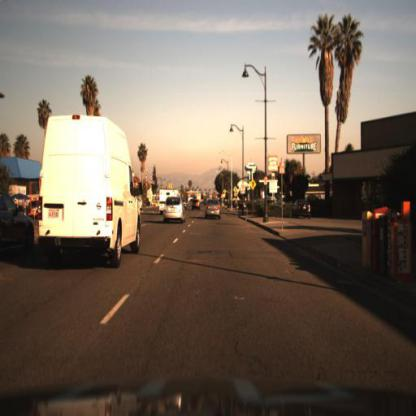car: (2, 186, 42, 256), (163, 193, 186, 229), (201, 198, 219, 223), (291, 196, 308, 220), (190, 196, 202, 213)
truck: (34, 107, 147, 281)
